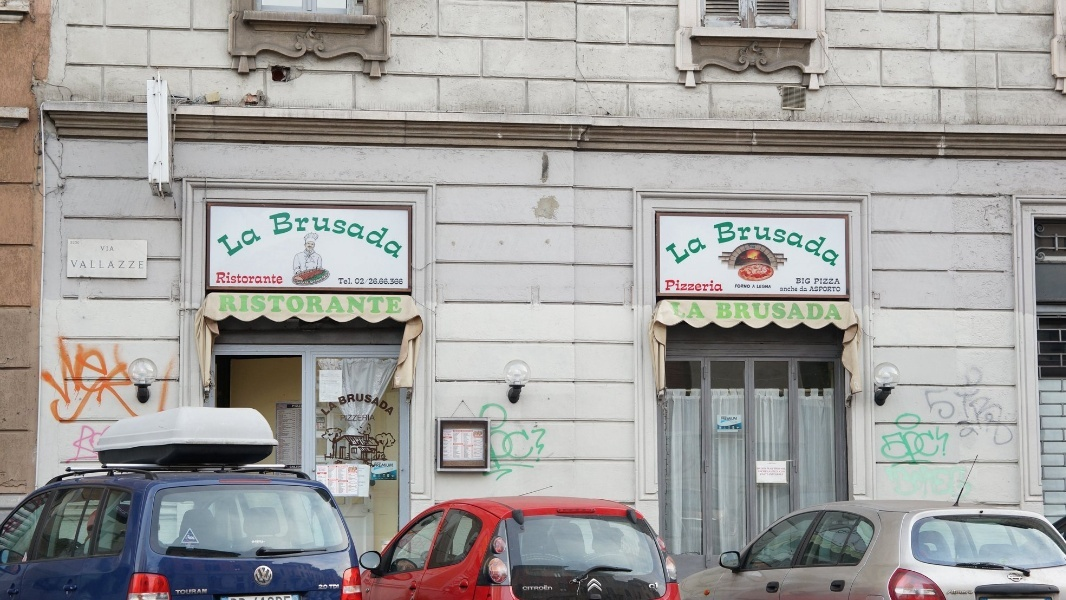text: (49, 332, 64, 473), (65, 332, 80, 473), (81, 332, 96, 473), (97, 332, 112, 473), (113, 332, 128, 473), (129, 332, 144, 473), (145, 332, 160, 473), (161, 332, 176, 473), (881, 363, 896, 475), (897, 363, 912, 475), (913, 363, 928, 475), (929, 363, 944, 475), (945, 363, 960, 475), (961, 363, 976, 475), (977, 363, 992, 475), (993, 363, 1008, 475), (1009, 363, 1019, 475), (289, 205, 304, 262), (305, 205, 320, 262), (321, 205, 336, 262), (337, 205, 352, 262), (353, 205, 368, 262), (369, 205, 384, 262), (385, 205, 400, 262), (721, 216, 736, 272), (737, 216, 752, 272), (753, 216, 768, 272), (769, 216, 784, 272), (785, 216, 800, 272), (801, 216, 816, 272), (817, 216, 832, 272), (43, 332, 48, 473), (289, 410, 302, 463), (277, 410, 288, 463), (278, 205, 288, 262), (401, 205, 411, 262), (875, 363, 880, 475), (673, 231, 688, 266), (689, 231, 704, 266), (225, 225, 240, 258), (241, 225, 256, 258), (449, 429, 464, 459), (465, 429, 480, 459), (337, 466, 352, 495), (530, 427, 544, 458), (353, 466, 367, 495), (833, 216, 840, 272), (337, 393, 352, 418), (353, 393, 368, 418), (369, 393, 384, 418), (214, 225, 224, 258), (225, 294, 240, 315), (241, 294, 256, 315), (257, 294, 272, 315), (273, 294, 288, 315), (289, 294, 304, 315), (305, 294, 320, 315), (321, 294, 336, 315), (337, 294, 352, 315), (353, 294, 368, 315), (369, 294, 384, 315), (385, 294, 400, 315), (385, 393, 397, 418), (177, 332, 179, 473), (664, 231, 672, 266), (321, 400, 336, 418), (721, 303, 736, 321), (737, 303, 752, 321), (753, 303, 768, 321), (769, 303, 784, 321), (785, 303, 800, 321), (801, 303, 816, 321), (817, 303, 832, 321), (327, 466, 336, 495), (673, 303, 688, 319), (689, 303, 704, 319), (225, 271, 240, 286), (241, 271, 256, 286), (257, 271, 272, 286), (673, 279, 688, 293), (689, 279, 704, 293), (705, 279, 720, 293), (257, 225, 263, 258), (833, 303, 844, 321), (717, 216, 720, 272), (273, 271, 284, 286), (81, 259, 96, 269), (97, 259, 112, 269), (113, 259, 128, 269), (129, 259, 144, 269), (443, 429, 448, 459), (769, 467, 784, 476), (216, 271, 224, 286), (353, 278, 368, 286), (369, 278, 384, 286), (385, 278, 400, 286), (353, 414, 368, 422), (177, 588, 192, 596), (193, 588, 208, 596), (338, 278, 352, 286), (756, 467, 768, 476), (219, 294, 224, 315), (529, 585, 544, 592), (705, 231, 708, 266), (817, 278, 832, 285), (817, 286, 832, 293), (70, 259, 80, 269), (665, 279, 672, 293), (340, 414, 352, 422), (401, 294, 405, 315), (737, 284, 751, 290), (785, 286, 798, 292), (961, 590, 974, 596), (289, 465, 304, 470), (721, 416, 736, 421), (716, 303, 720, 321), (801, 278, 811, 285), (291, 404, 304, 409), (545, 585, 554, 592), (545, 427, 547, 458), (100, 246, 112, 251), (753, 285, 768, 289), (950, 590, 960, 596), (481, 429, 483, 459), (241, 596, 256, 600), (257, 596, 272, 600), (273, 596, 288, 600), (369, 414, 376, 422), (328, 584, 336, 591), (833, 278, 841, 285), (801, 286, 809, 293), (833, 286, 841, 293), (757, 285, 768, 290), (374, 463, 384, 468), (321, 584, 328, 591), (649, 583, 656, 590), (385, 463, 394, 468), (522, 585, 528, 592), (721, 279, 724, 293), (810, 286, 816, 293), (70, 241, 80, 245), (337, 400, 339, 418), (231, 596, 240, 600), (401, 278, 405, 286), (705, 303, 707, 319), (796, 278, 800, 285), (317, 584, 320, 591), (337, 584, 340, 591), (781, 286, 784, 292), (174, 588, 176, 596), (671, 303, 672, 319), (769, 285, 772, 290), (657, 583, 659, 590), (814, 278, 816, 285), (113, 246, 115, 251), (785, 467, 786, 476), (735, 284, 736, 290), (737, 416, 738, 421), (289, 596, 290, 600)
